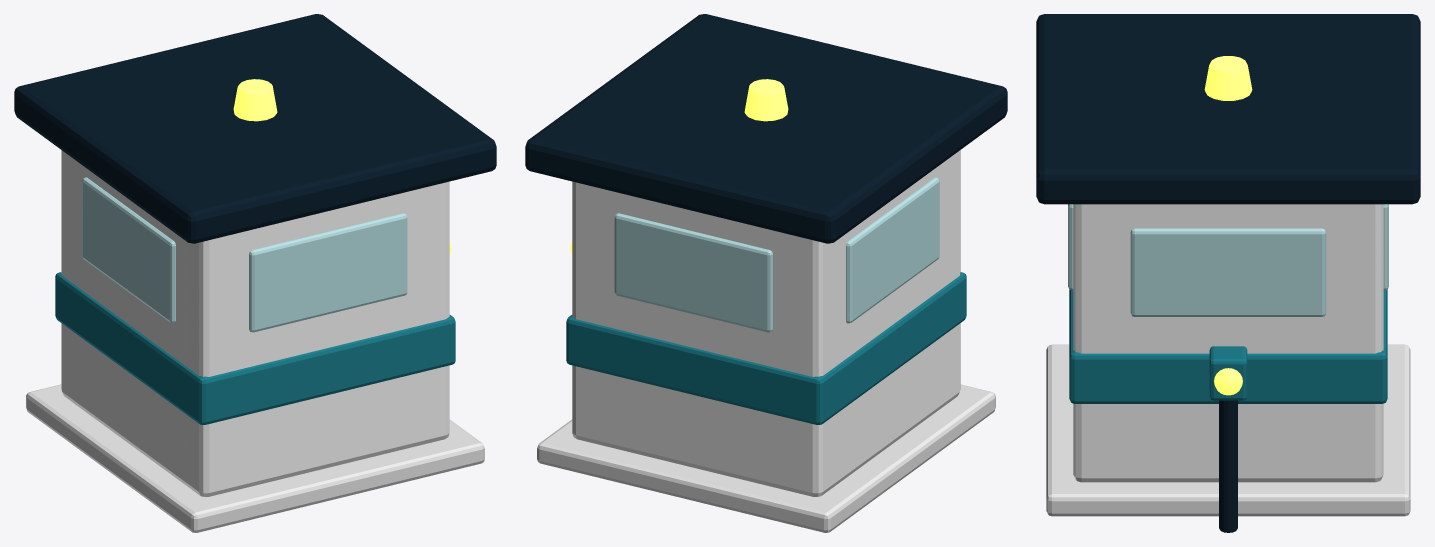
File: pos_pantau.glb
The picture shows the model from 3 angles, left to right: view 1: azimuth 30°, elevation 25°; view 2: azimuth 150°, elevation 25°; view 3: azimuth 270°, elevation 25°; orthographic projection. The views are drawn at different scales.
Parts seen in each view (by area): view 1: pos_pantau; view 2: pos_pantau; view 3: pos_pantau.
Part boxes in pixels (x1,y1,x2,y2): pos_pantau: (14,14,496,532); pos_pantau: (525,14,1007,532); pos_pantau: (1036,14,1420,532).
Size of the model in its own units: 3.21 by 3.1 by 2.85.
